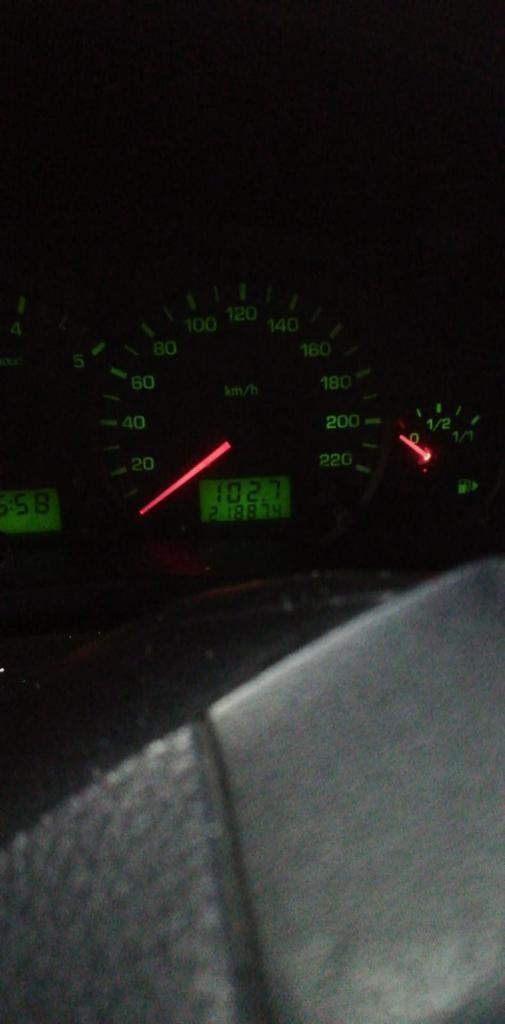,: (261, 497, 265, 502)
0: (226, 480, 241, 503)
1: (214, 482, 223, 503), (225, 505, 233, 520)
2: (245, 478, 260, 502), (206, 504, 218, 520)
4: (270, 503, 283, 518)
7: (266, 477, 281, 499), (259, 502, 270, 518)
8: (233, 503, 245, 520), (246, 502, 257, 520)
odometer: (196, 471, 296, 528)
